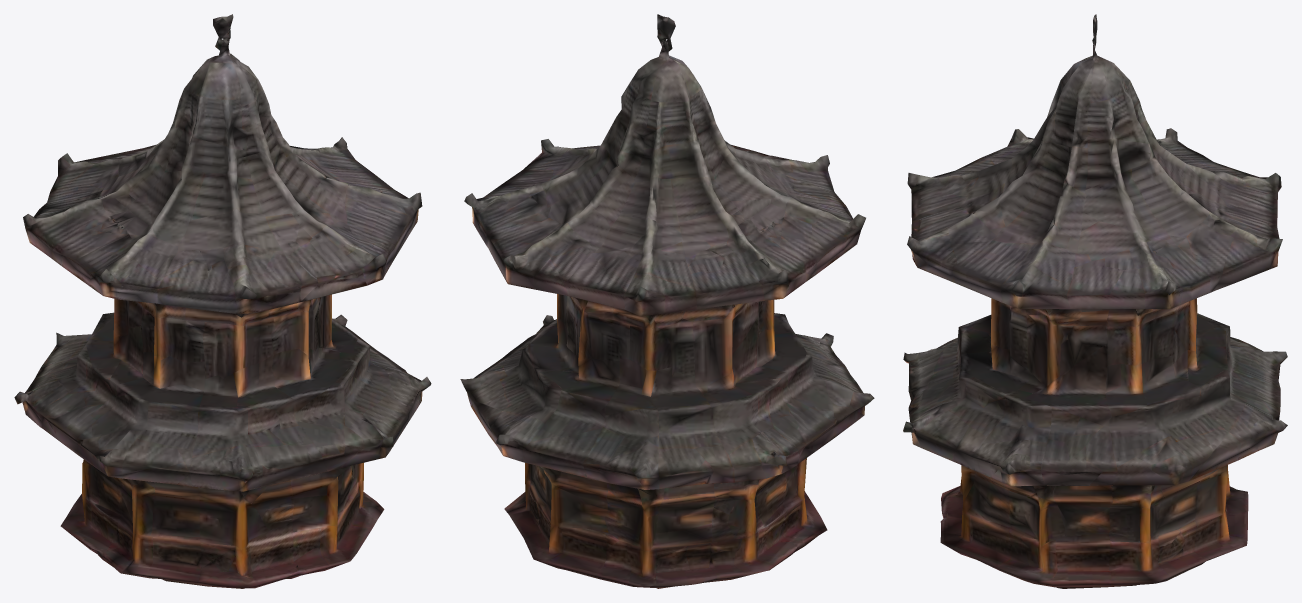
Rendered from bq_granary.far.glb.
3 views of the same model, side by side, from view 1: azimuth 30°, elevation 25°; view 2: azimuth 150°, elevation 25°; view 3: azimuth 270°, elevation 25° (orthographic).
Bounding box in the file's own units: 1.29 × 1.99 × 1.3.
Materials: 1 (1 with a texture image).
